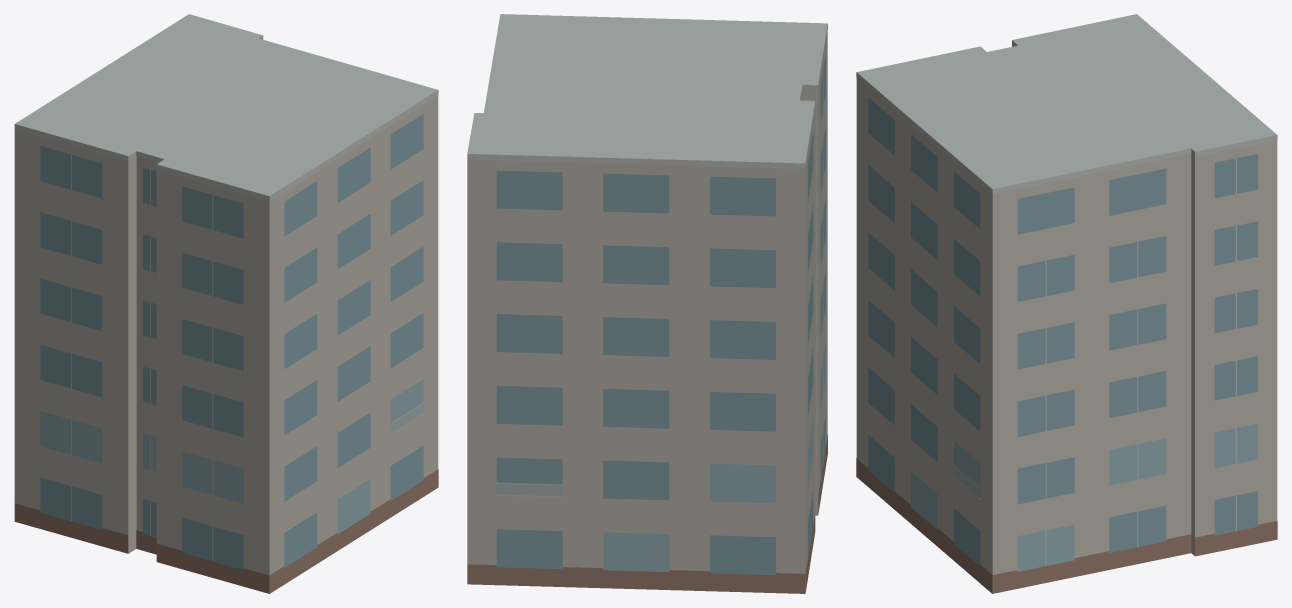
File: survey-upis-32738340.glb
3 renders of one model, left to right at view 1: azimuth 30°, elevation 25°; view 2: azimuth 150°, elevation 25°; view 3: azimuth 270°, elevation 25°, orthographic. The views are drawn at different scales.
Parts seen in each view (by area): view 1: survey-upis-32738340.tmp; view 2: survey-upis-32738340.tmp; view 3: survey-upis-32738340.tmp.
Part boxes in pixels (bbox=[...]): survey-upis-32738340.tmp: bbox=[14, 14, 438, 593]; survey-upis-32738340.tmp: bbox=[467, 14, 827, 593]; survey-upis-32738340.tmp: bbox=[856, 14, 1277, 593].
Size of the model in its own units: 17 by 18.3 by 17.26.
